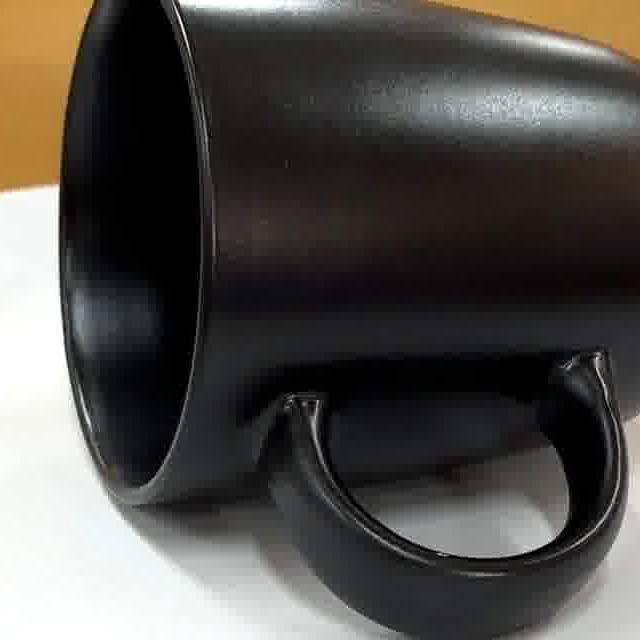cup: (60, 0, 640, 640)
